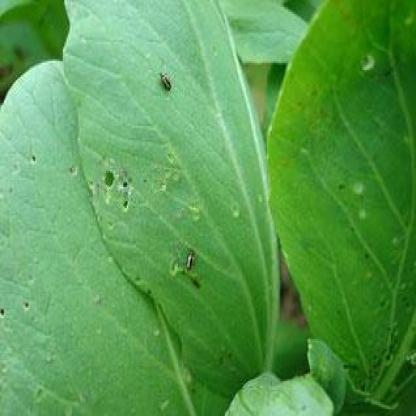beetle: (152, 68, 180, 96), (182, 242, 200, 276)
